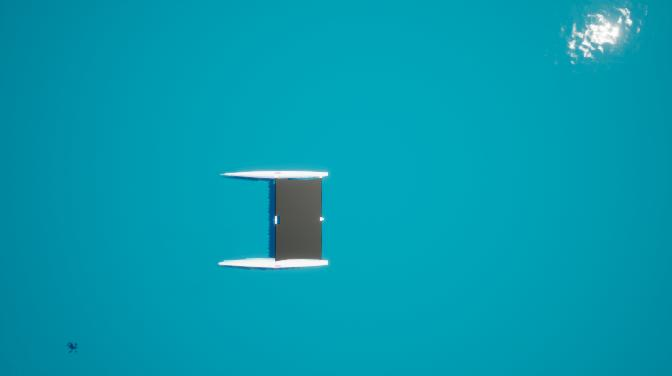boat: (216, 164, 336, 279)
drone: (65, 337, 80, 359)
land_base: (277, 178, 321, 258)
light_reflex: (555, 0, 662, 77)
